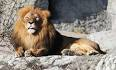lion: (16, 8, 102, 58)
